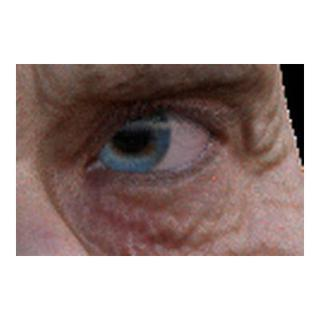pupil: (112, 116, 148, 152)
